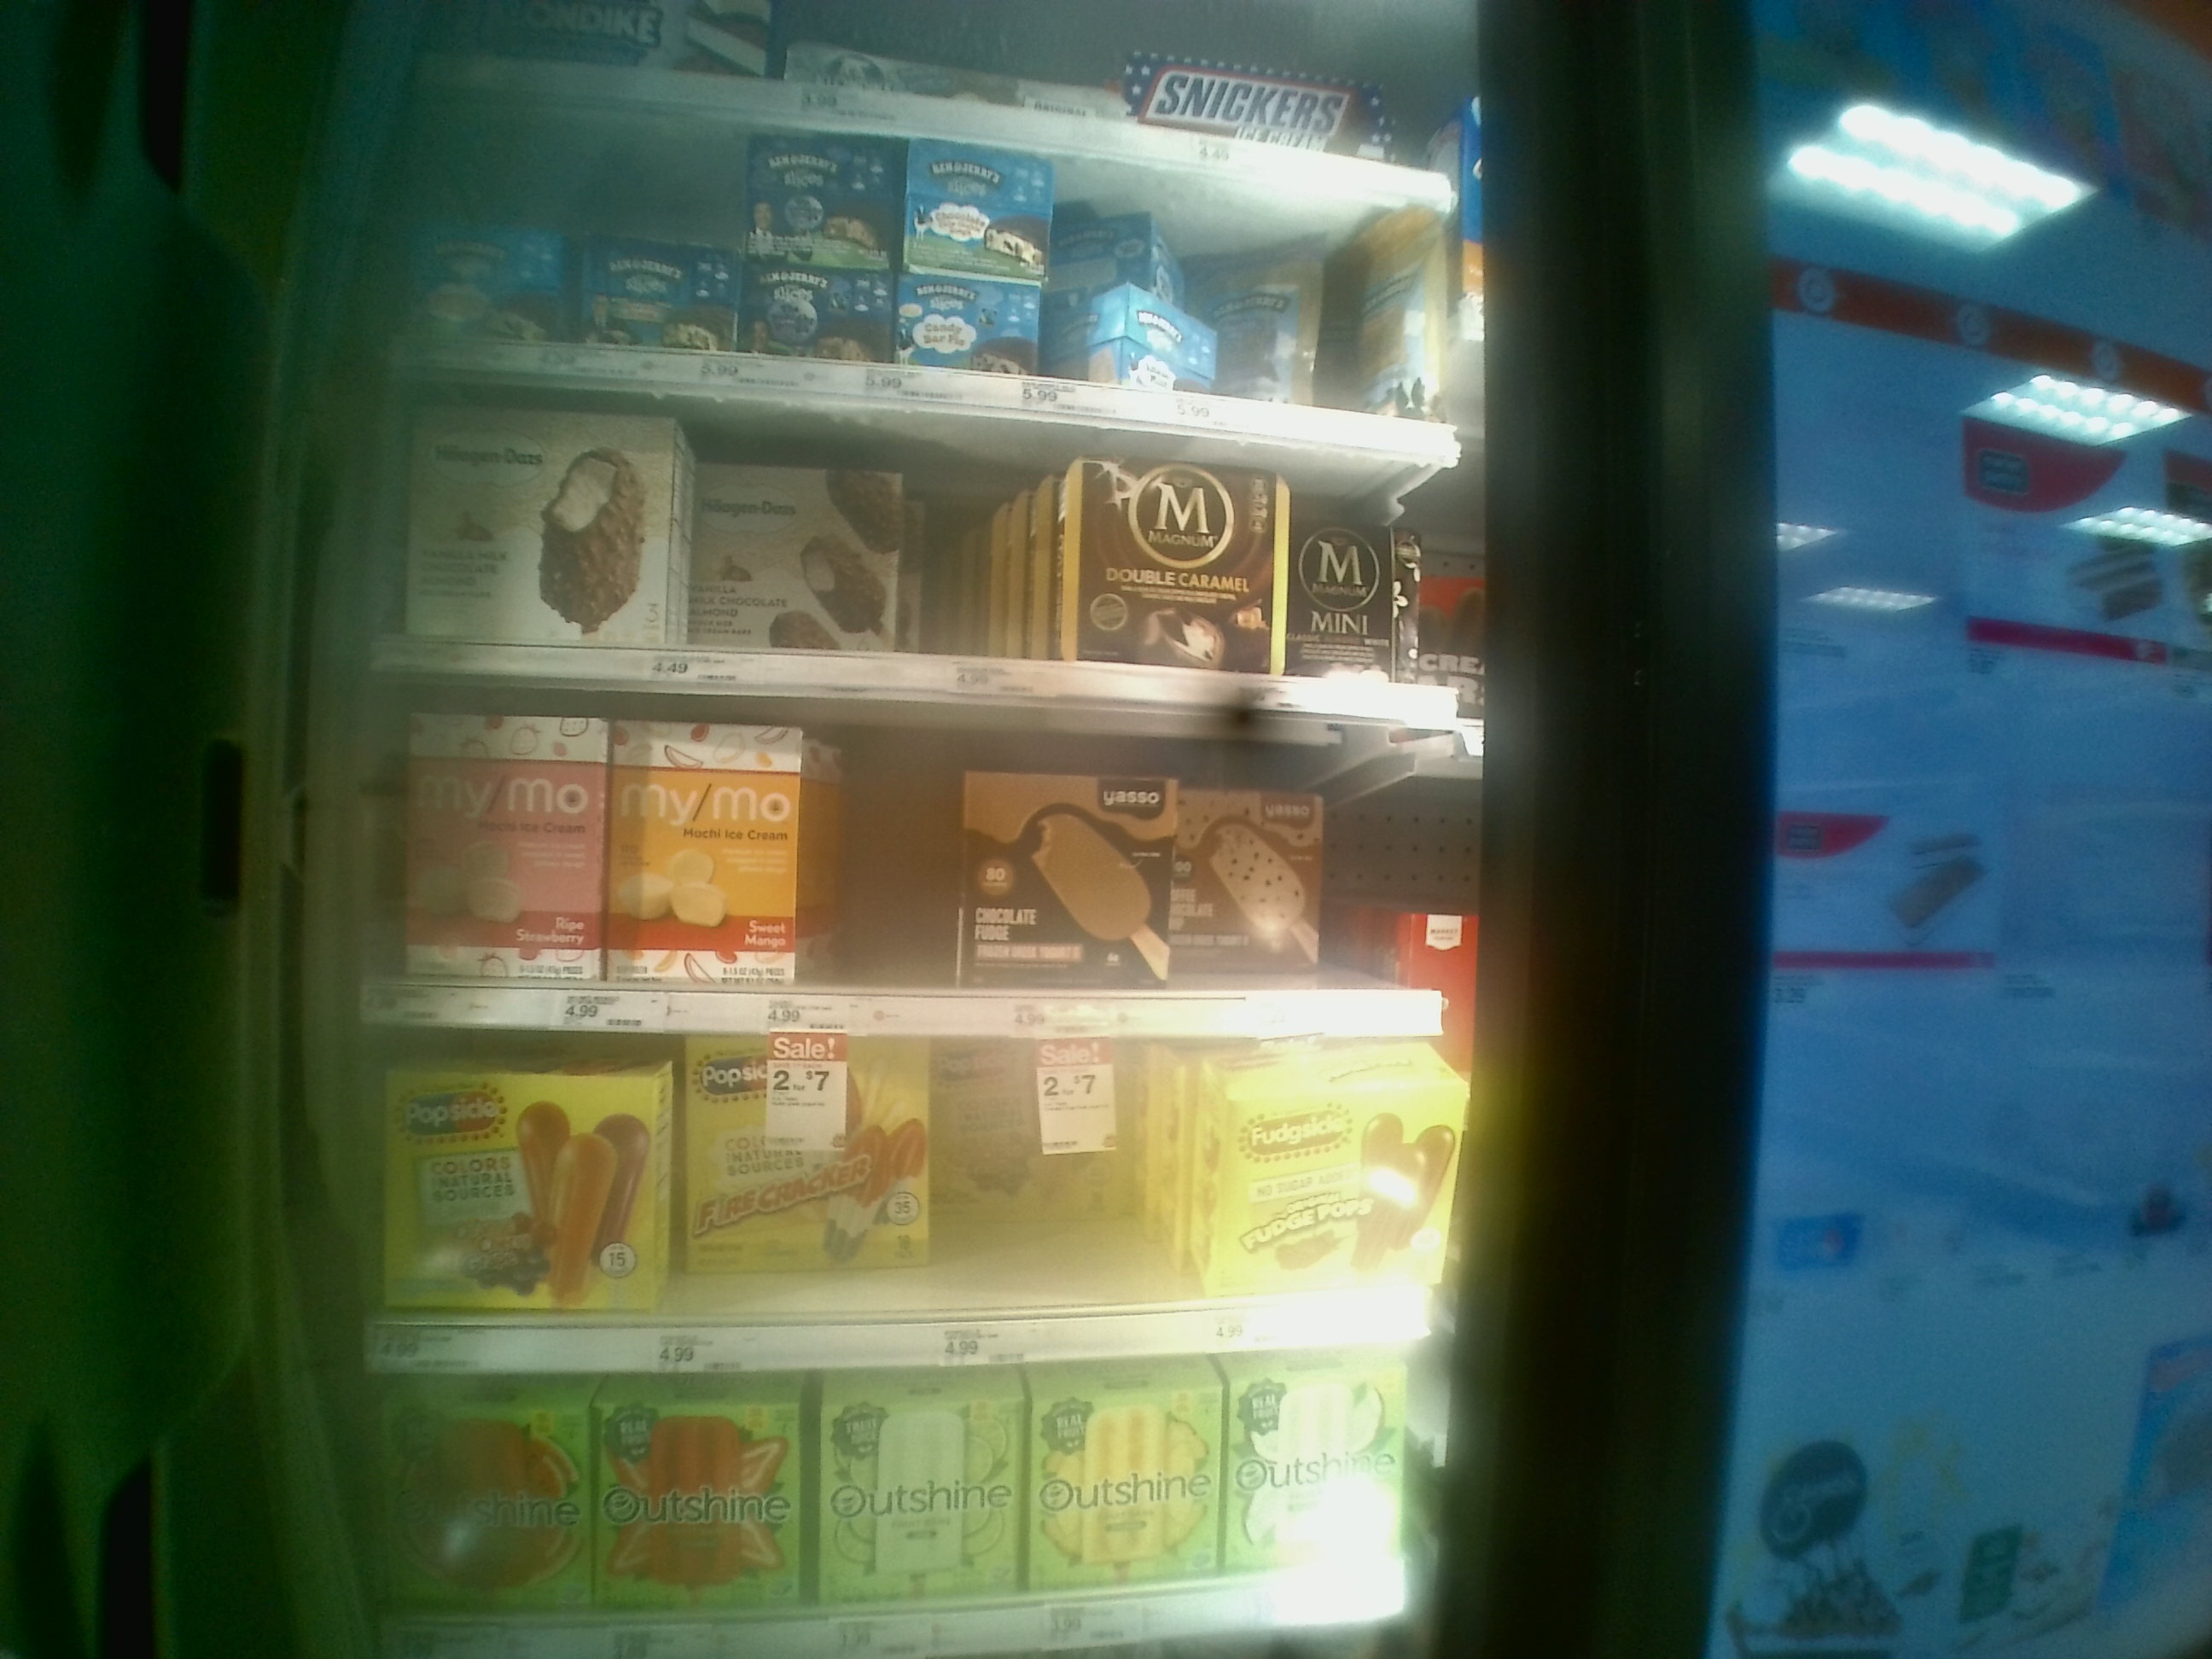ice-cream-shelf: (380, 673, 1465, 1040), (361, 1035, 1451, 1377), (371, 1371, 1456, 1650)
